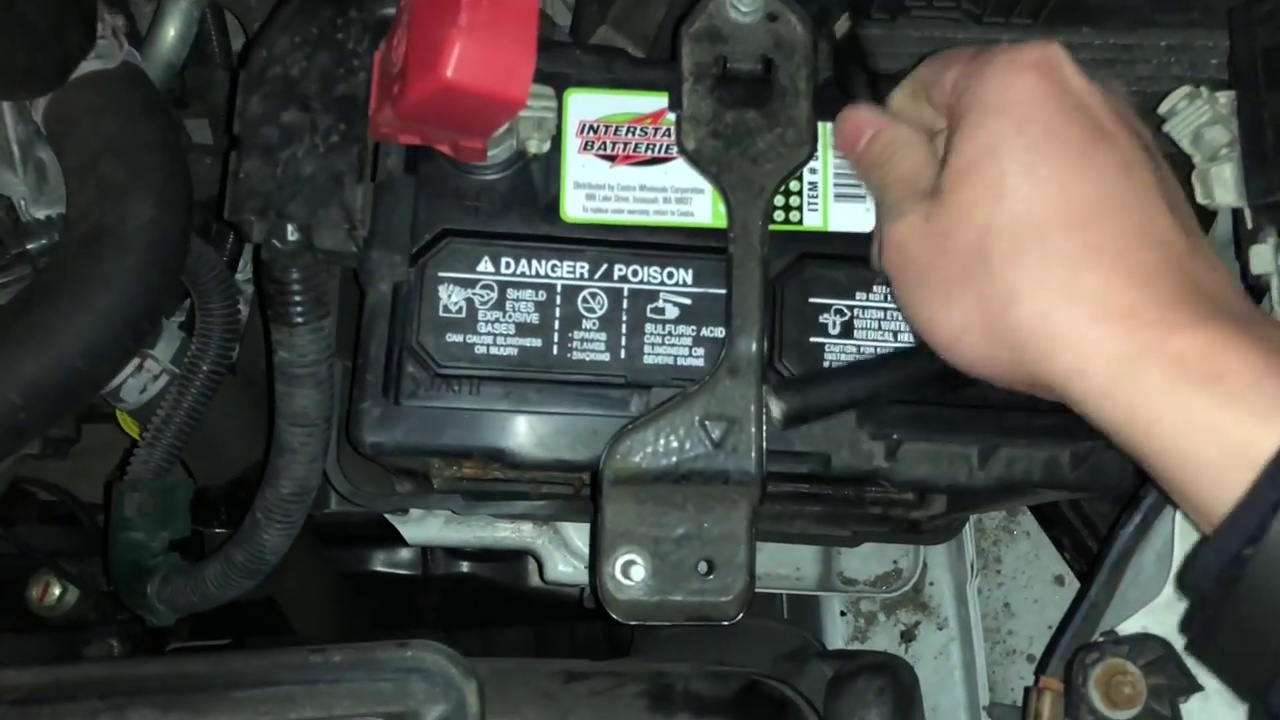battery: (378, 50, 1155, 465)
pos_connected: (390, 40, 587, 188)
